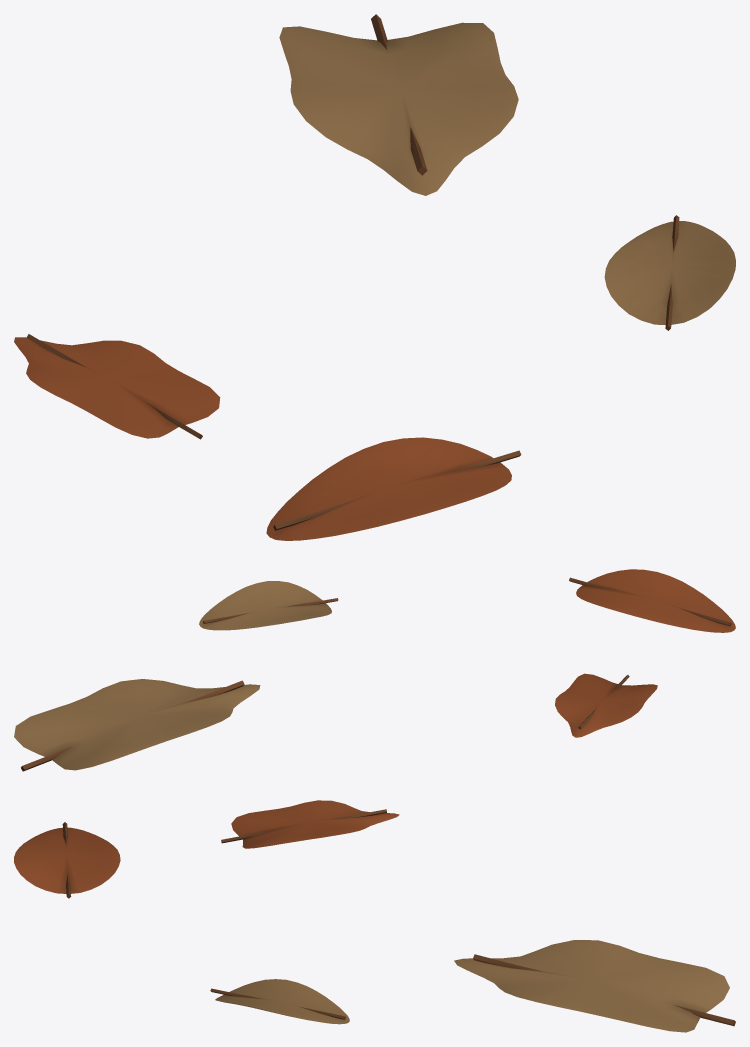
The model's file is mire_gc_leaves_a.glb.
3 views of the same model, one above another, from view 1: azimuth 30°, elevation 25°; view 2: azimuth 150°, elevation 25°; view 3: azimuth 270°, elevation 25° (orthographic). The views are drawn at different scales.
Parts seen in each view (by area): view 1: mire_gc_leaves_a; view 2: mire_gc_leaves_a; view 3: mire_gc_leaves_a.
Part boxes in pixels (x1,y1,x2,y2): mire_gc_leaves_a: (14,14,735,540); mire_gc_leaves_a: (14,569,735,771); mire_gc_leaves_a: (14,800,735,1032).
Size of the model in its own units: 3.83 by 0.2019 by 5.07.
